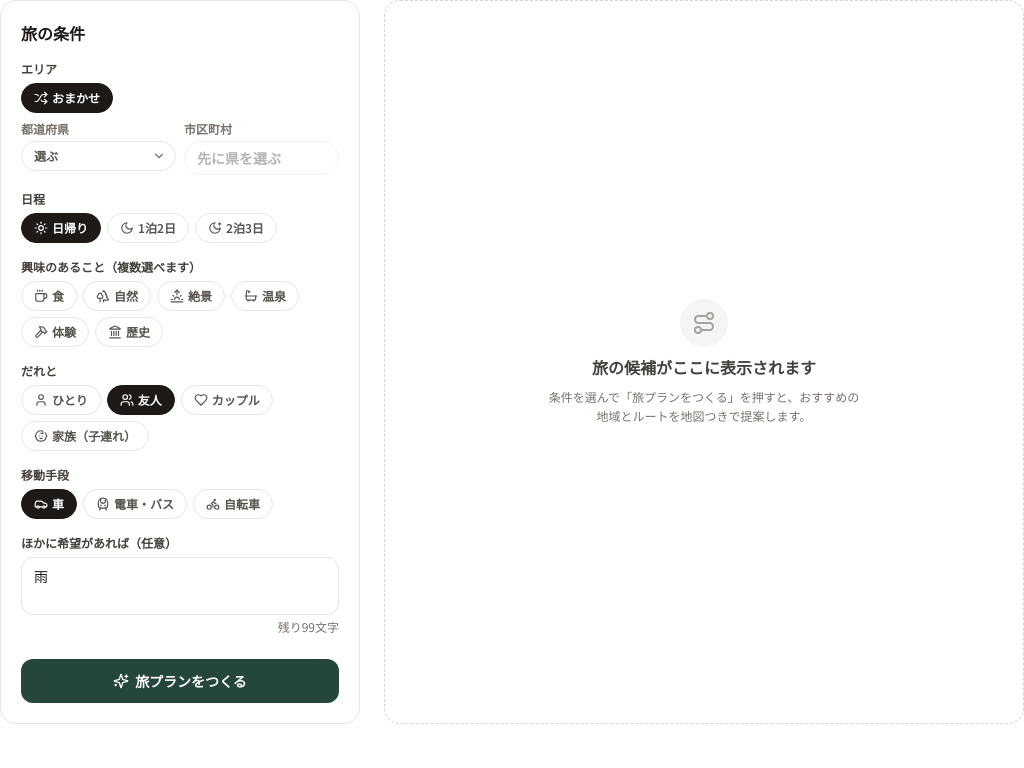
Test: PlannerForm › 自由記述の希望（#114） › URL の希望が変わったら（ブラウザの「戻る」など）、入力中の文を捨てて URL に合わせる
Replace the text in the text box labelled "ほかに希望があれば（任意）" with "書きかけ" at (180, 586), box [21,557,339,615]
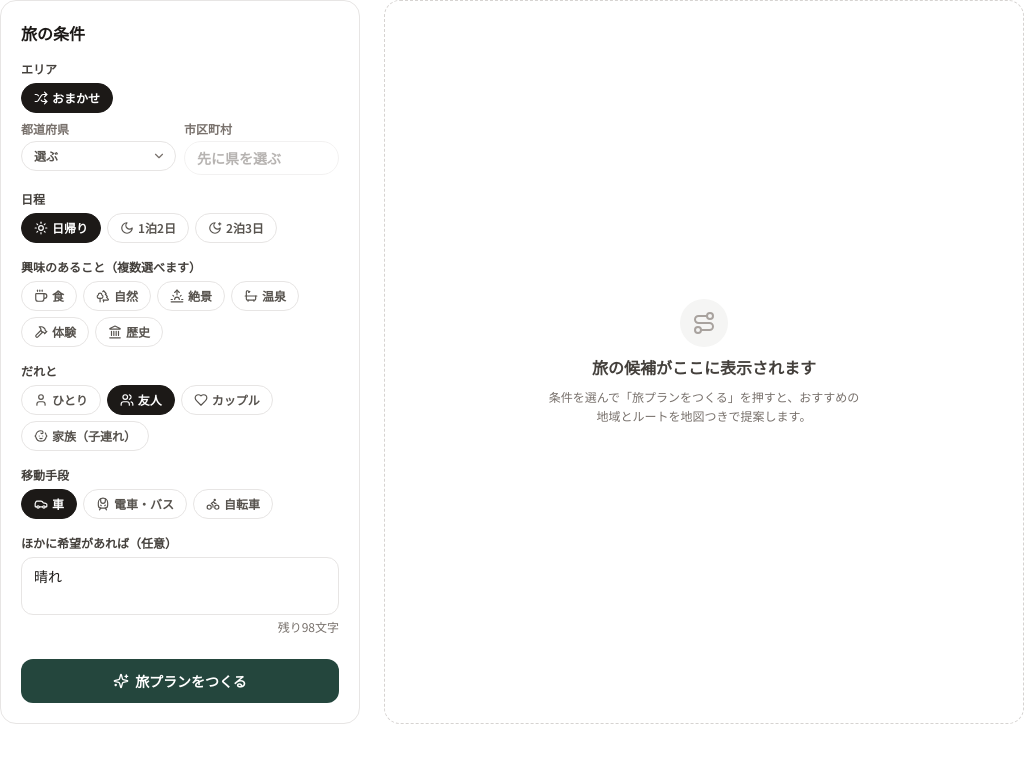
Expected: the text box labelled "ほかに希望があれば（任意）" holds "晴れ", [21,557,339,615]
